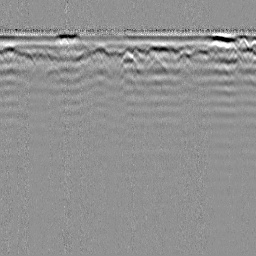cavity: (115, 49, 141, 69)
